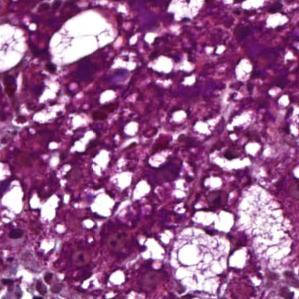ballooning: (165, 224, 233, 299), (47, 5, 123, 72), (0, 18, 30, 75)
